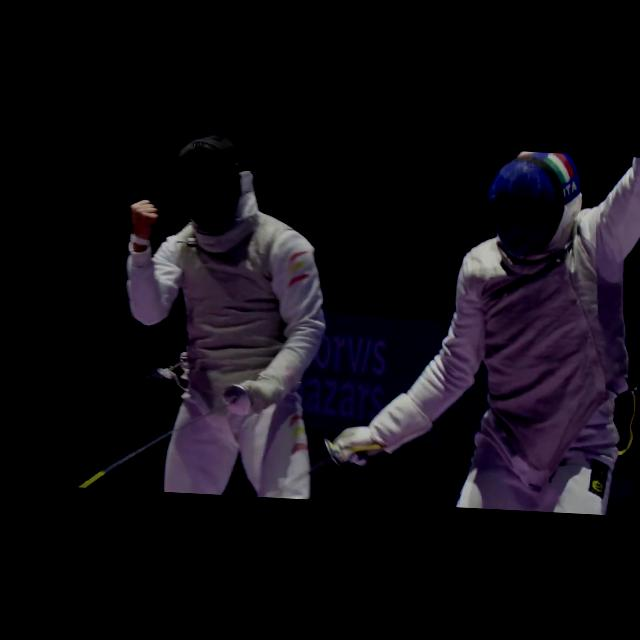blade: (80, 378, 251, 496), (250, 436, 376, 504)
